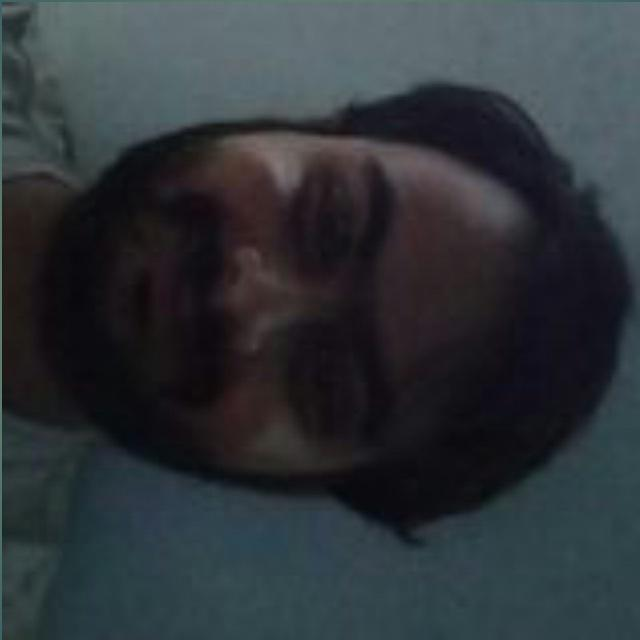Happy: (83, 109, 545, 516)
